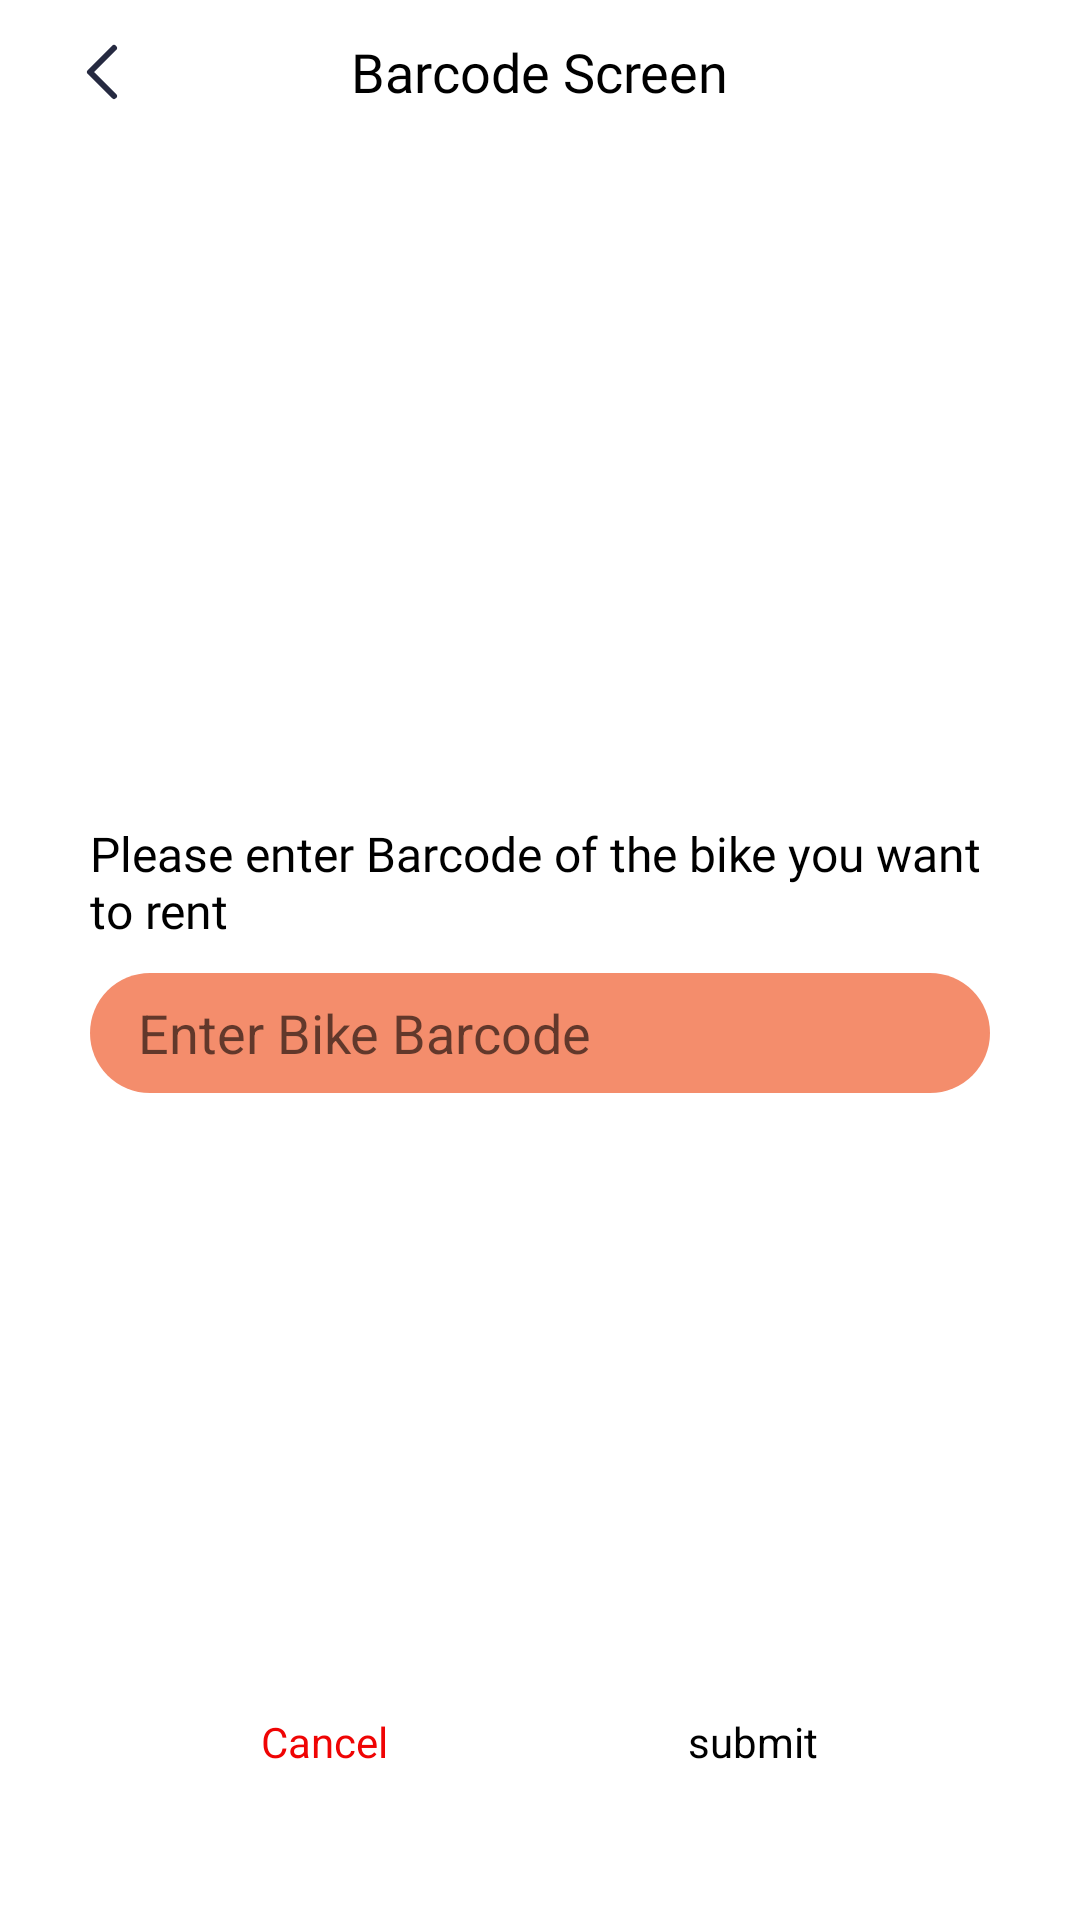

Named icons in this screenshot (1080x1920) and their centers, (x,y):
back: (102,71)
